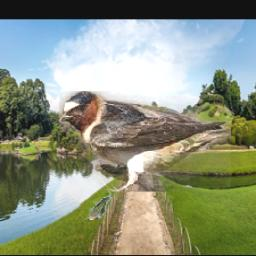Cuckoo: (84, 189, 112, 220)
Swallow: (60, 92, 232, 192)
